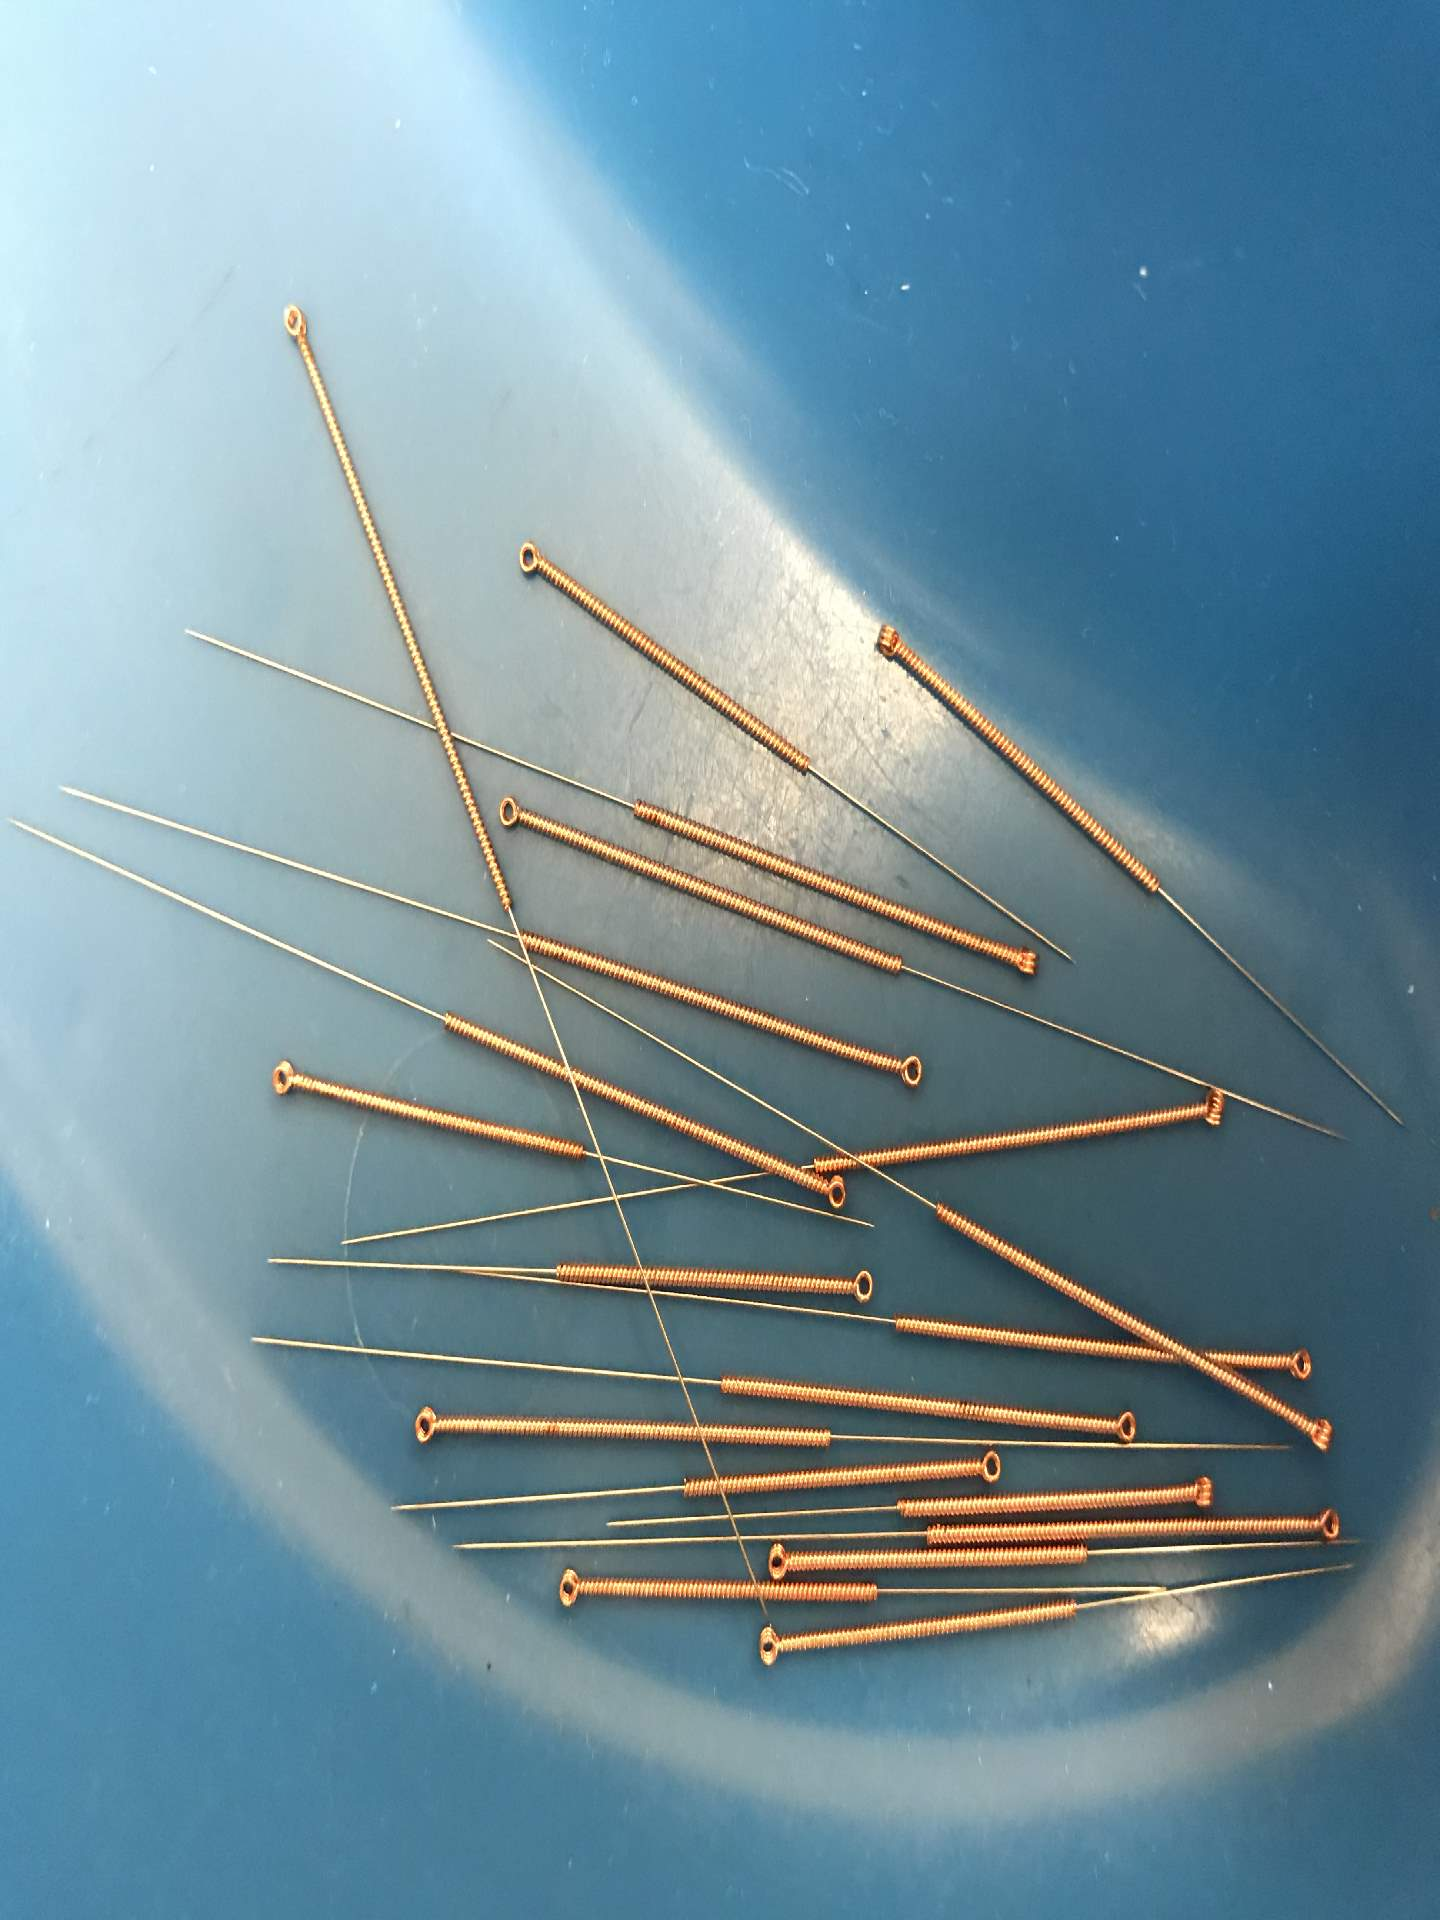needle: (1286, 1401, 1352, 1465), (256, 1045, 315, 1111), (858, 612, 920, 674), (501, 528, 560, 591), (535, 1560, 601, 1618), (265, 290, 324, 352), (879, 1037, 936, 1101), (395, 1394, 454, 1454), (740, 1616, 797, 1677), (1265, 1333, 1327, 1389), (1299, 1494, 1355, 1556), (1186, 1079, 1239, 1143), (487, 782, 538, 842), (1097, 1398, 1153, 1451), (833, 1259, 886, 1312), (995, 934, 1047, 989), (753, 1541, 811, 1587), (1175, 1466, 1227, 1516), (953, 1447, 1013, 1489), (808, 1170, 855, 1214)
